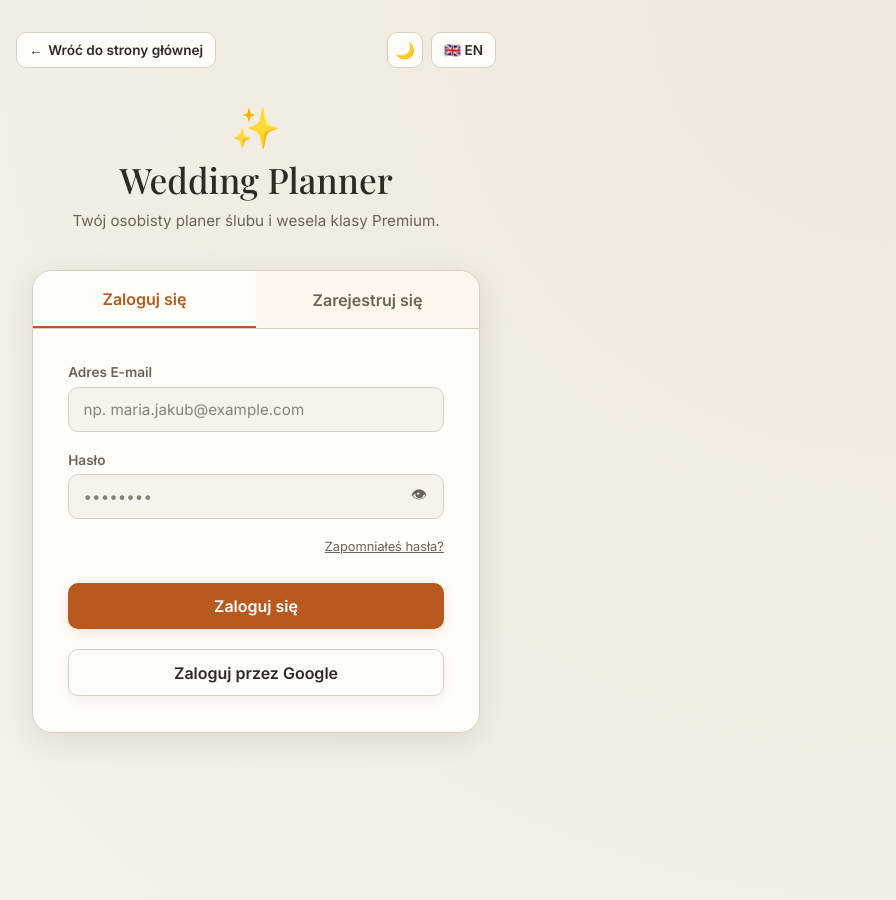
LoginPage Component › switches tabs to register when clicking register button
The width and height of the screenshot is (896, 900).
Find the register tab button and click it
Click the button "Zarejestruj się": (368, 300) [256, 271, 479, 328]
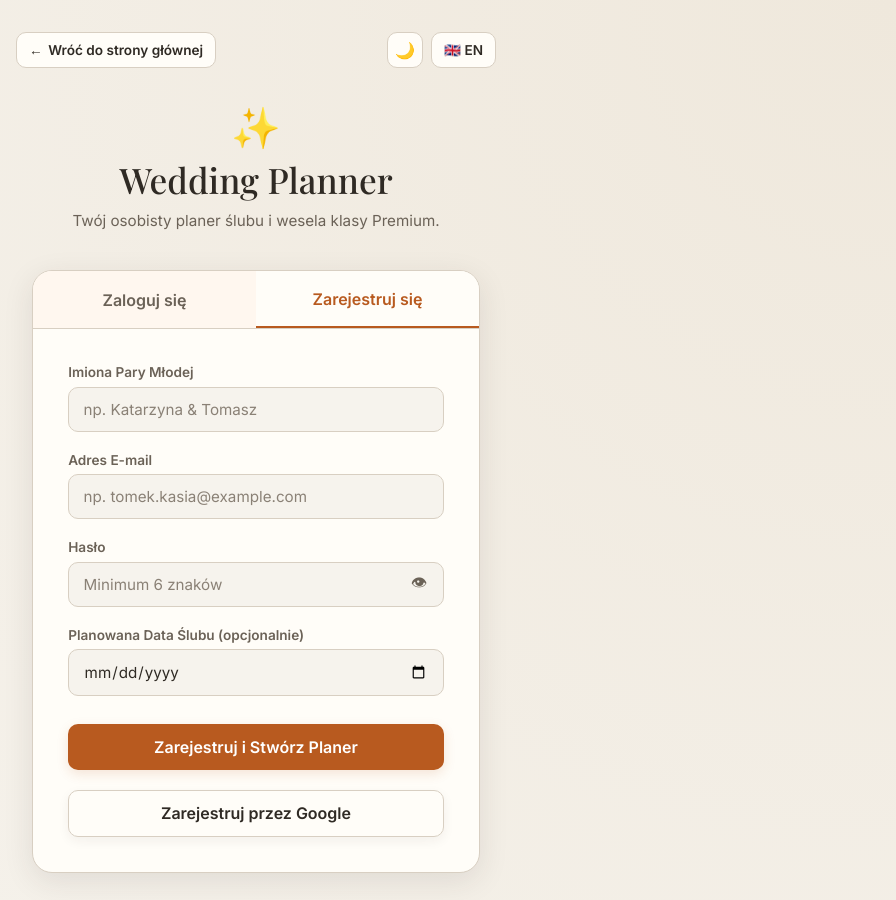
Check: the field with placeholder "np. Katarzyna & Tomasz" is shown, box [68, 387, 444, 432]
